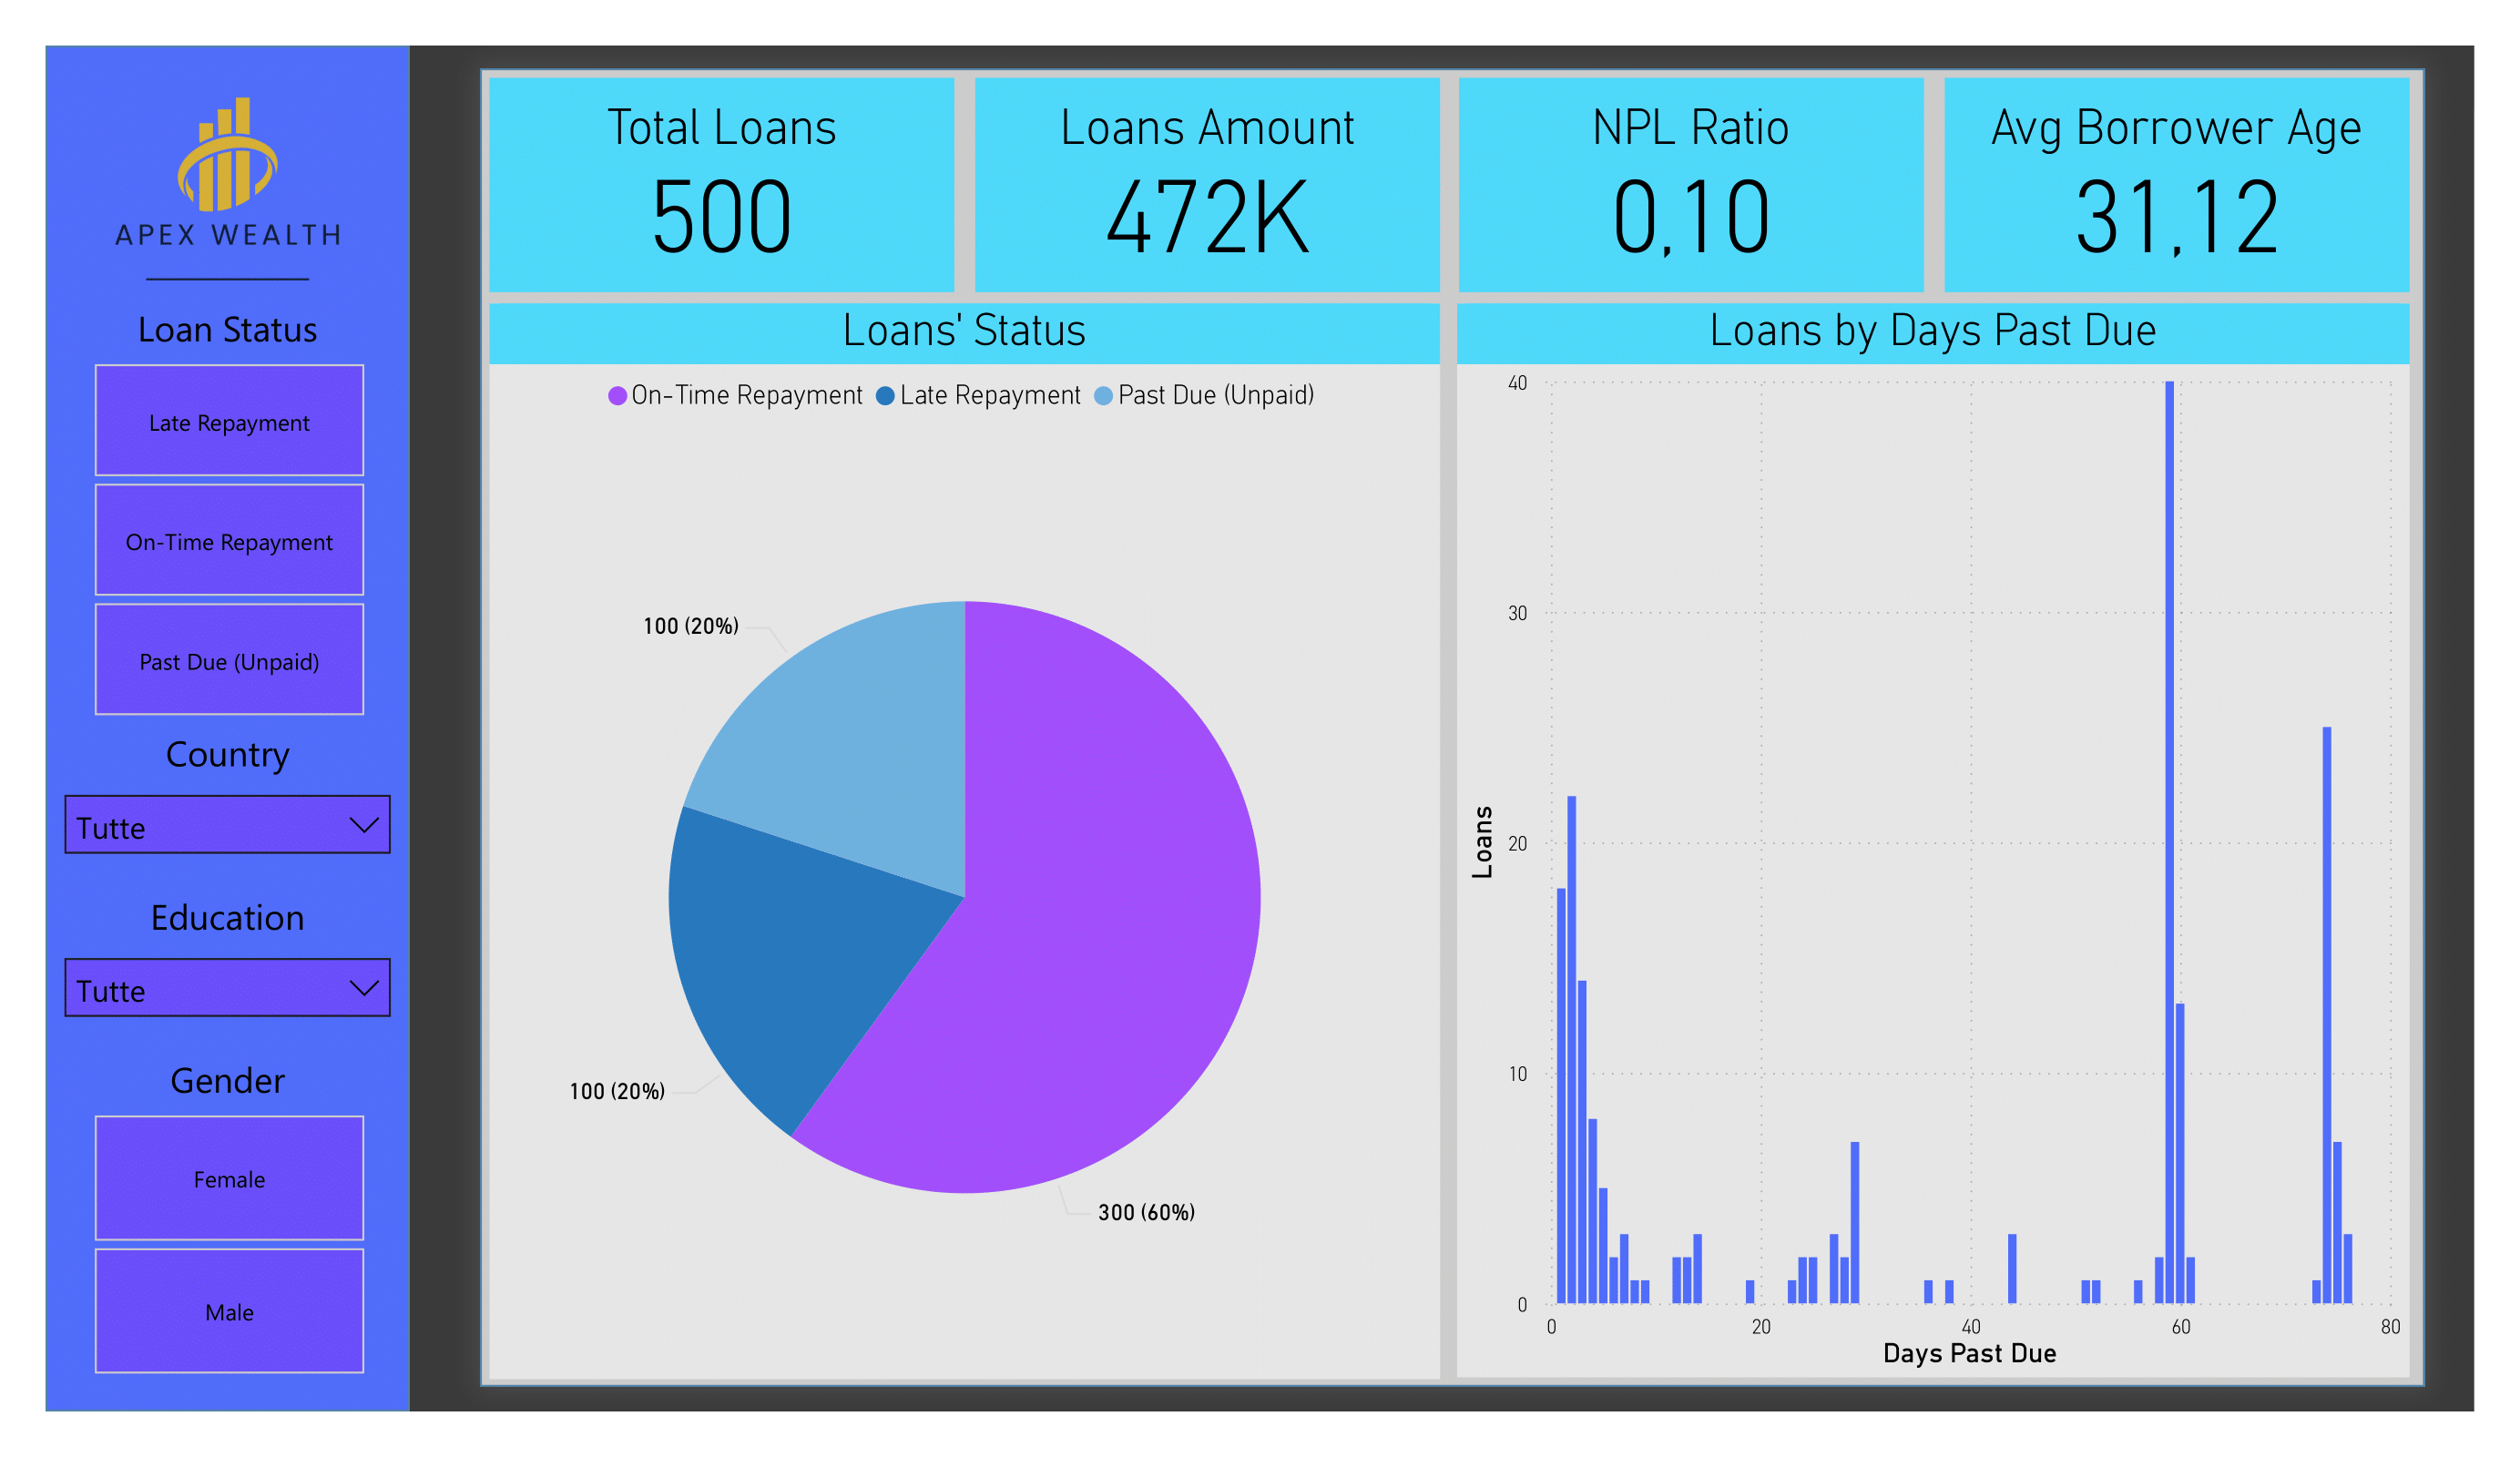

What the dashboard file says about the page in this screenshot:
{"tool":"powerbi","page":{"name":"Pagina 1","canvas":[1280,720],"ordinal":0},"visuals":[{"type":"shape","box":[229.2,12.2,1024.4,694.8],"z":0},{"type":"shape","box":[0,0,192,720.1],"z":1000},{"type":"cardVisual","fields":{"Data":["public loan_analysis_view.Total Loans"]},"box":[229.2,12.2,255.6,123.7],"z":2000},{"type":"cardVisual","fields":{"Data":["public loan_analysis_view.Total Loans Amount"]},"box":[484.8,12.2,255.6,123.7],"z":3000},{"type":"cardVisual","fields":{"Data":["public loan_analysis_view.Average Borrower Age"]},"box":[996,12.2,255.6,123.7],"z":4000},{"type":"cardVisual","fields":{"Data":["public loan_analysis_view.Non Performing Loans Ratio"]},"box":[740.4,12.2,255.6,123.7],"z":5000},{"type":"slicer","title":"Loan Status","fields":{"Values":["public loan_analysis_view.Loan Status Label"]},"box":[0,135.9,191.7,224.2],"z":6000},{"type":"slicer","title":"Country","fields":{"Values":["public loan_analysis_view.country"]},"box":[0,360.1,191.7,86.2],"z":7000},{"type":"slicer","title":"Education","fields":{"Values":["public loan_analysis_view.education"]},"box":[0,446.3,191.7,86.2],"z":8000},{"type":"slicer","title":"Gender","fields":{"Values":["public loan_analysis_view.gender"]},"box":[0,532.5,191.7,174.5],"z":9000},{"type":"pieChart","title":"Loans'' Status","fields":{"Category":["public loan_analysis_view.Loan Status Label"],"Y":["CountNonNull(public loan_analysis_view.loan_id)"]},"box":[233.5,136.2,501.6,566.5],"z":10000},{"type":"clusteredColumnChart","title":"Loans by Days Past Due","fields":{"Y":["CountNonNull(public loan_analysis_view.loan_id)"],"Category":["public loan_analysis_view.past_due_days"]},"box":[744.3,136.1,502.1,566],"z":11000},{"type":"image","box":[0,0,192,136],"z":11001}]}

Visuals, with their boxes on the page's 1280x720 design canvas (x1, y1, x2, y2). These are canvas units, not pixel positions in the 2520x1457 screenshot, which may show the page scaled, cropped or inside an application window:
shape: select_region(229, 12, 1254, 707)
shape: select_region(0, 0, 192, 720)
cardVisual - public loan_analysis_view.Total Loans: select_region(229, 12, 485, 136)
cardVisual - public loan_analysis_view.Total Loans Amount: select_region(485, 12, 740, 136)
cardVisual - public loan_analysis_view.Average Borrower Age: select_region(996, 12, 1252, 136)
cardVisual - public loan_analysis_view.Non Performing Loans Ratio: select_region(740, 12, 996, 136)
"Loan Status" slicer: select_region(0, 136, 192, 360)
"Country" slicer: select_region(0, 360, 192, 446)
"Education" slicer: select_region(0, 446, 192, 532)
"Gender" slicer: select_region(0, 532, 192, 707)
"Loans'' Status" pieChart: select_region(234, 136, 735, 703)
"Loans by Days Past Due" clusteredColumnChart: select_region(744, 136, 1246, 702)
image: select_region(0, 0, 192, 136)
